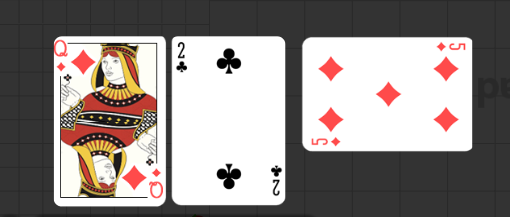2C: (176, 41, 189, 75)
9D: (435, 42, 468, 54)
QD: (66, 36, 110, 83), (133, 157, 177, 203)
